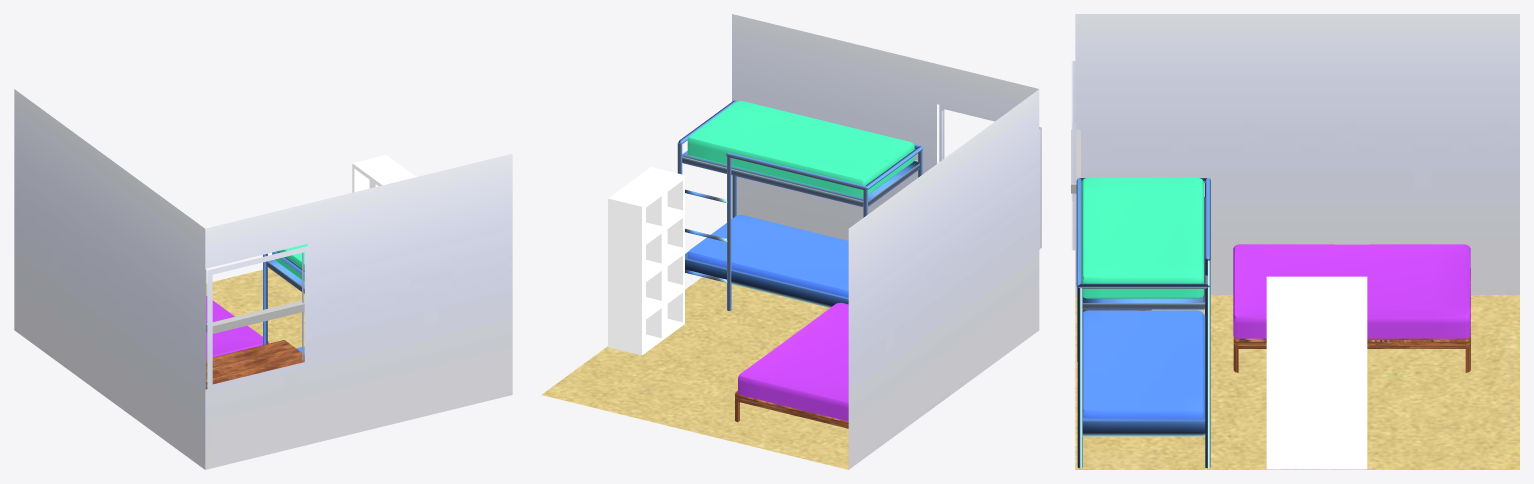
Rendered from Bedroom-B-03-V02.glb.
The picture shows the model from 3 angles, left to right: view 1: azimuth 30°, elevation 25°; view 2: azimuth 150°, elevation 25°; view 3: azimuth 270°, elevation 25°; orthographic projection. The views are drawn at different scales.
Parts seen in each view (by area): view 1: ROOM-Room, dresser, bookshelf, futon, ROOM, Bunk-Frame; view 2: ROOM-Room, bookshelf, bunk02, futon, Bunk01, Bunk-Frame, Futon-frame; view 3: ROOM-Room, bookshelf, futon, bunk02, Bunk01, Bunk-Frame, Futon-frame.
Boxes of the visible parts, x1,y1,x2,y2 form: ROOM-Room: (14,89,512,469); dresser: (206,340,304,388); bookshelf: (352,155,415,192); futon: (206,296,268,358); ROOM: (206,300,304,333); Bunk-Frame: (263,251,304,344); ROOM-Room: (541,14,1041,469); bookshelf: (608,167,684,355); bunk02: (687,101,914,197); futon: (738,302,848,421); Bunk01: (687,215,848,297); Bunk-Frame: (677,100,923,310); Futon-frame: (735,391,848,428); ROOM-Room: (1071,14,1519,469); bookshelf: (1266,276,1367,469); futon: (1233,244,1470,338); bunk02: (1081,177,1203,298); Bunk01: (1083,310,1203,418); Bunk-Frame: (1076,178,1210,468); Futon-frame: (1233,268,1470,372).
Bounding box in the file's own units: 3.05 × 2.29 × 3.32.
Materials: 1 (1 with a texture image).
